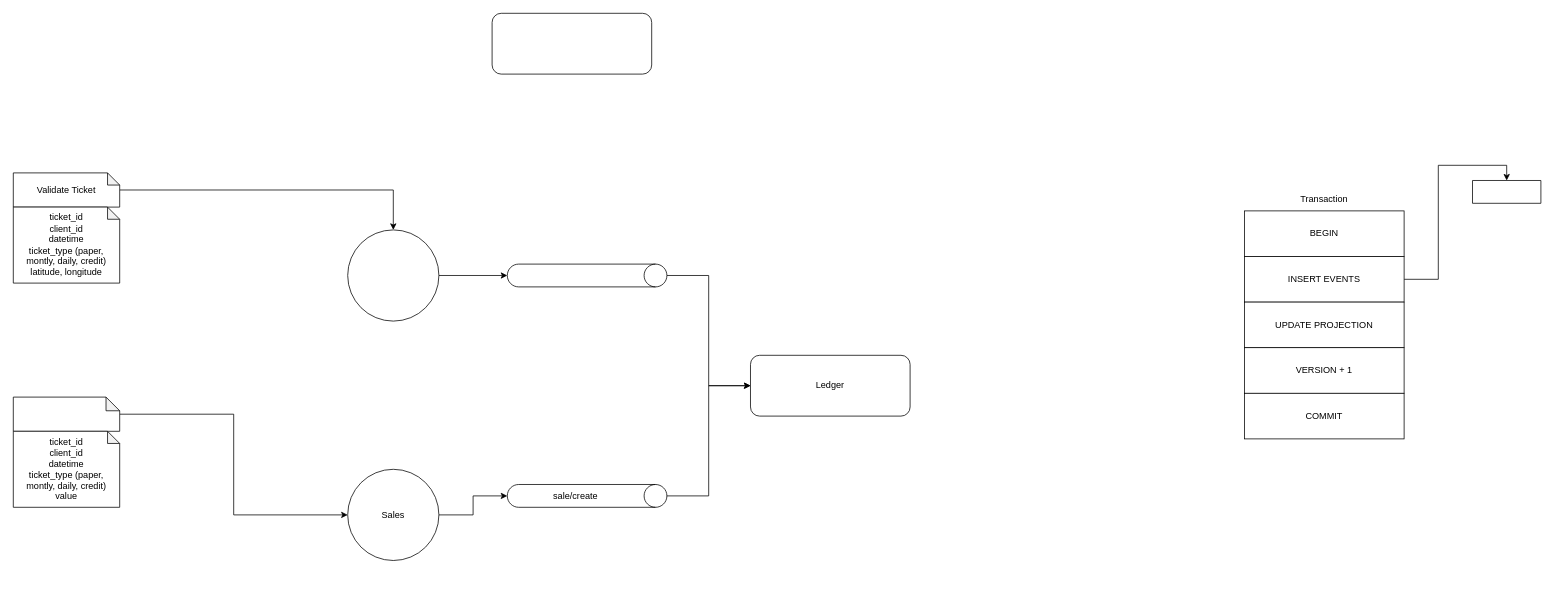
The diagram is 1554 pixels wide and 589 high, and some of its shapes have lost their labels. Each missing label, with the box of its shape:
Api Gateway: (491, 13, 652, 74)
Buy Ticket: (13, 396, 120, 431)
EVENTS: (1472, 180, 1541, 203)
validation/create: (507, 263, 667, 287)
Validations: (347, 229, 439, 321)
